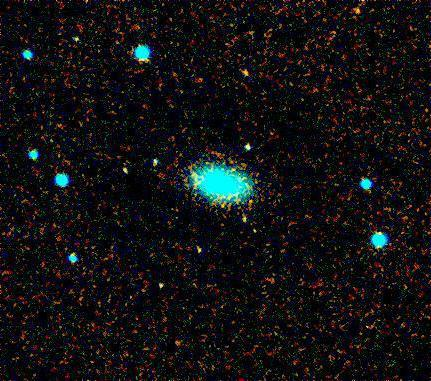star: (342, 0, 372, 26)
